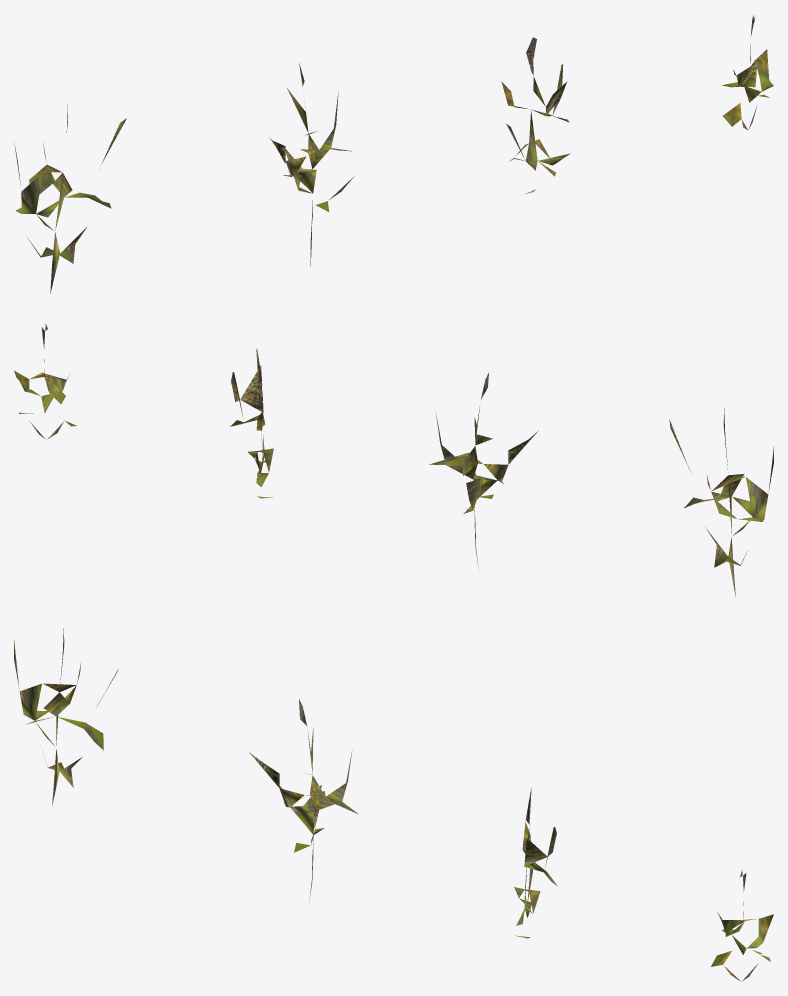
The model's file is shrub_03_lo.glb.
3 views of the same model, one above another, from view 1: azimuth 30°, elevation 25°; view 2: azimuth 150°, elevation 25°; view 3: azimuth 330°, elevation 25° (orthographic).
Parts seen in each view (by area): view 1: shrub_03_a, shrub_03_b, shrub_03_c, shrub_03_d; view 2: shrub_03_a, shrub_03_b, shrub_03_c, shrub_03_d; view 3: shrub_03_a, shrub_03_b, shrub_03_c, shrub_03_d.
Boxes of the visible parts, box(x1,y1,x2,y2) form: shrub_03_a: box(14, 104, 126, 293); shrub_03_b: box(269, 62, 354, 265); shrub_03_c: box(501, 37, 570, 194); shrub_03_d: box(722, 15, 773, 129); shrub_03_a: box(669, 408, 773, 597); shrub_03_b: box(429, 372, 538, 570); shrub_03_c: box(230, 348, 273, 498); shrub_03_d: box(14, 323, 76, 439); shrub_03_a: box(14, 628, 118, 806); shrub_03_b: box(249, 699, 358, 903); shrub_03_c: box(514, 788, 557, 938); shrub_03_d: box(711, 869, 773, 981).
Size of the model in its own units: 1.35 by 0.3825 by 0.1225.
1 material, 1 textured.
